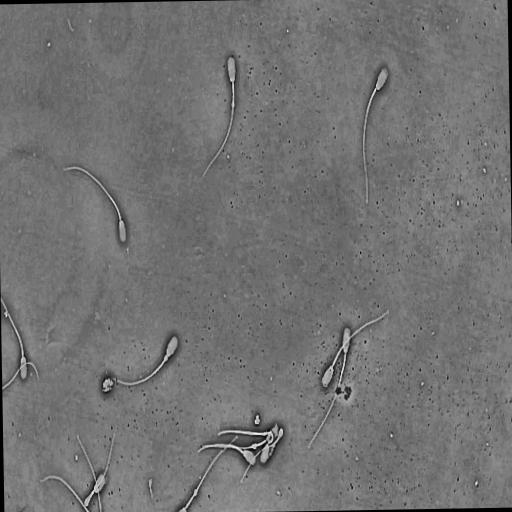dirt-particles: (334, 385, 353, 403), (101, 374, 114, 395), (253, 413, 261, 427)
distal-droplet: (193, 488, 198, 497), (231, 100, 235, 108)
folded-tail: (84, 433, 115, 506), (218, 431, 273, 445)
loose-tail: (76, 433, 103, 512), (40, 474, 90, 512), (2, 360, 40, 392)
normal: (304, 326, 352, 456), (321, 309, 390, 389), (60, 164, 128, 245), (175, 434, 239, 512), (201, 55, 237, 180), (361, 65, 390, 208), (106, 333, 180, 387), (83, 431, 117, 509), (1, 295, 28, 382), (218, 430, 274, 466), (198, 444, 256, 466)
proximal-droplet: (163, 354, 169, 363)
